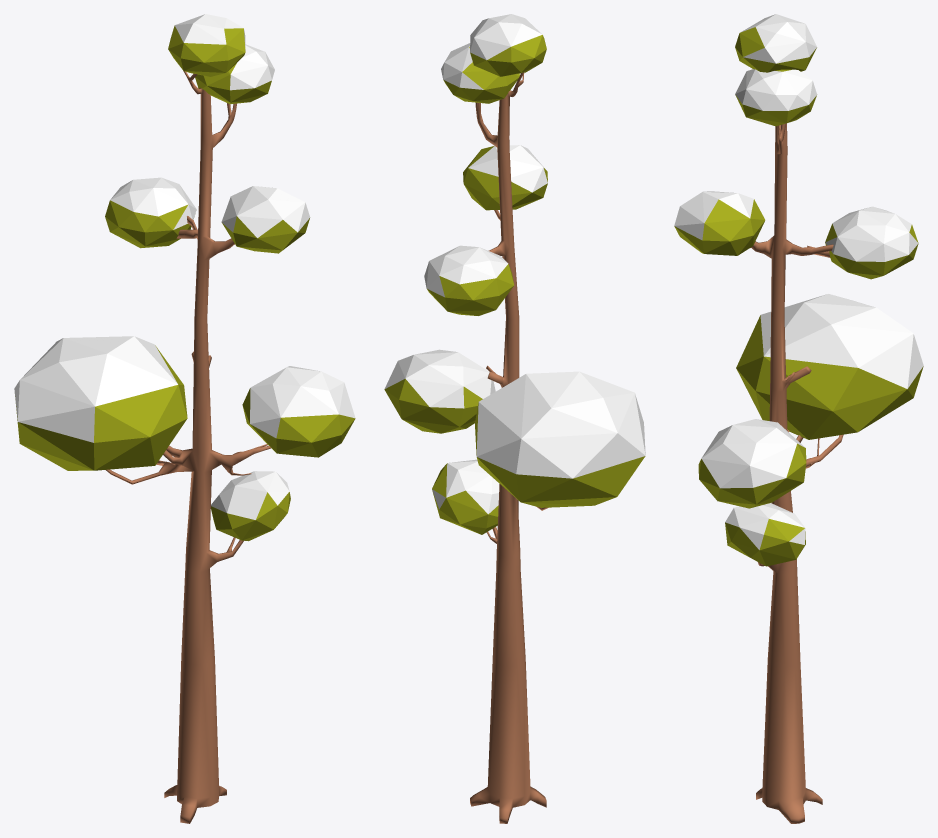
Rendered from SM_Tree_01.fbx.
The picture shows the model from 3 angles, left to right: view 1: azimuth 30°, elevation 25°; view 2: azimuth 150°, elevation 25°; view 3: azimuth 270°, elevation 25°; orthographic projection.
Parts seen in each view (by area): view 1: SM_Tree_01_LOD0; view 2: SM_Tree_01_LOD0; view 3: SM_Tree_01_LOD0.
Boxes of the visible parts, bbox=[...] form: SM_Tree_01_LOD0: bbox=[14, 14, 355, 823]; SM_Tree_01_LOD0: bbox=[384, 14, 645, 823]; SM_Tree_01_LOD0: bbox=[674, 14, 923, 823].
Size of what is drawn, in the model's own units: 415 by 1070 by 305.
